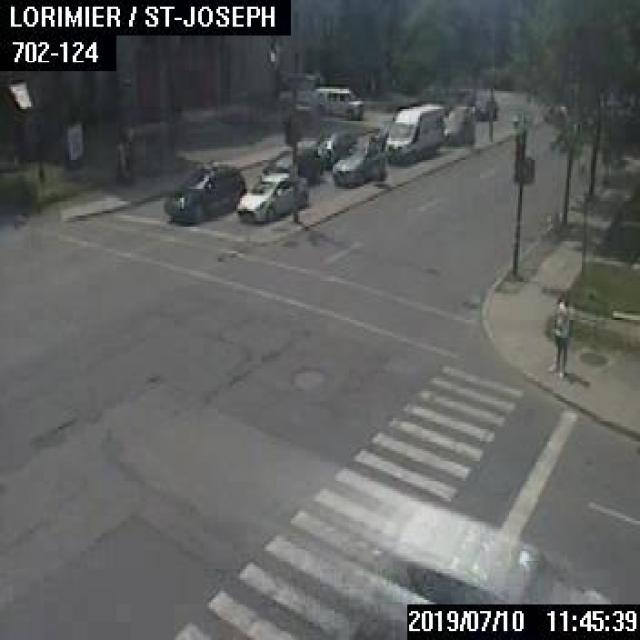pedestrian: (550, 294, 572, 376)
vehicle: (364, 498, 613, 638), (162, 162, 245, 225), (384, 102, 443, 164), (236, 171, 306, 223), (260, 146, 322, 189), (331, 142, 384, 186), (315, 86, 362, 117), (316, 131, 354, 166), (442, 109, 474, 146), (474, 93, 495, 120)
